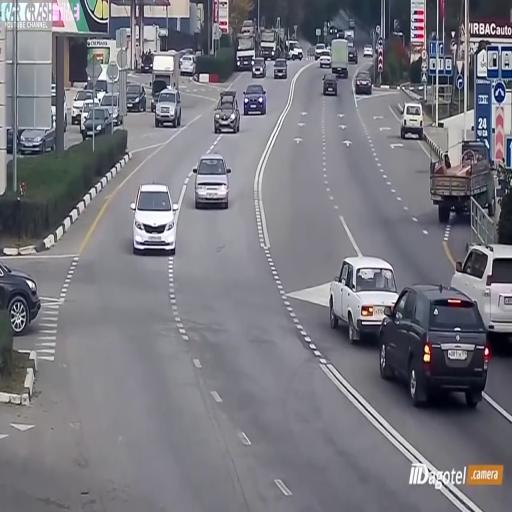小汽车: (386, 282, 486, 421), (321, 254, 397, 340), (430, 138, 498, 226), (461, 240, 512, 334), (0, 259, 43, 335), (135, 180, 176, 258), (196, 155, 230, 210), (212, 89, 242, 137), (156, 85, 182, 130), (241, 81, 269, 117), (400, 100, 425, 140), (84, 102, 112, 136), (235, 29, 257, 72), (329, 40, 352, 80), (126, 83, 147, 119), (322, 68, 340, 100), (356, 66, 374, 98), (250, 54, 268, 78), (316, 48, 336, 66), (274, 57, 288, 80)
